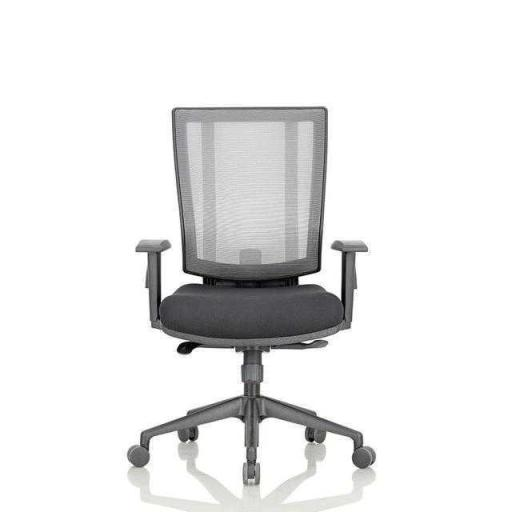chair: (130, 99, 379, 489)
